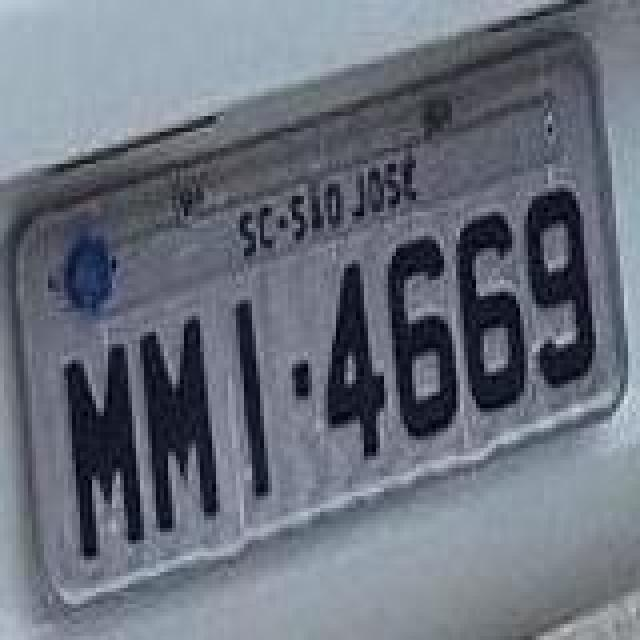1: (234, 296, 278, 504)
4: (324, 260, 388, 460)
6: (456, 208, 528, 416), (388, 234, 460, 438)
9: (522, 184, 598, 392)
M: (62, 340, 146, 564), (138, 312, 222, 536)
